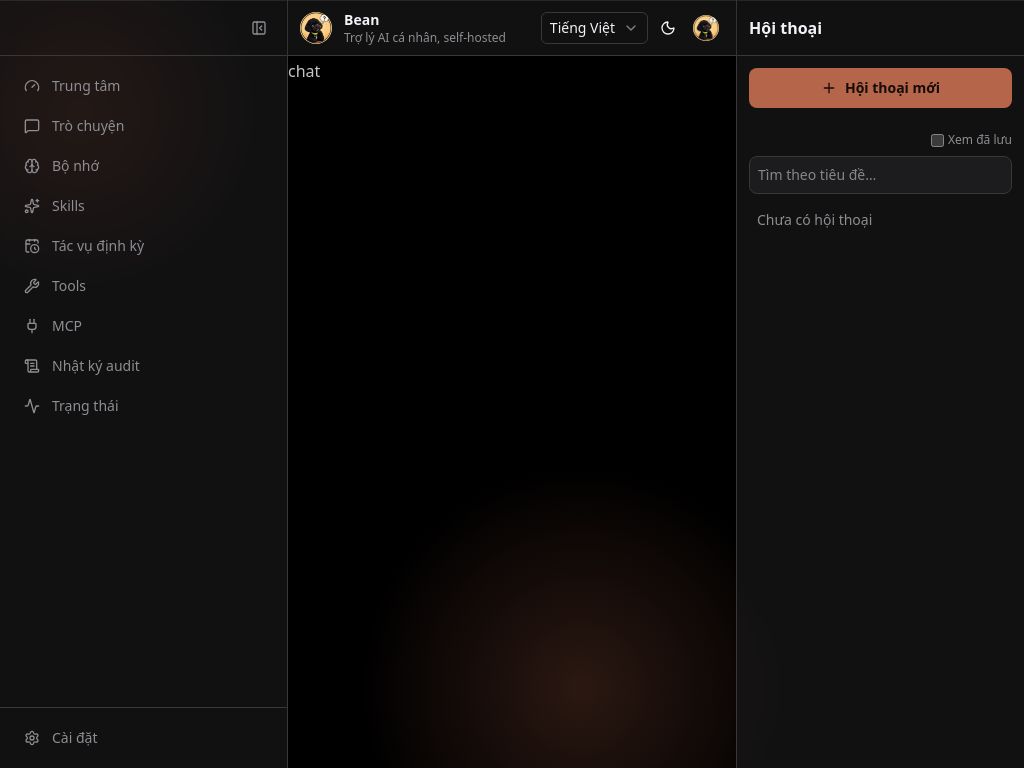
Test: ChatLayout sidebar › thu gọn sidebar › mặc định mở rộng, bấm nút thì thu gọn và nhớ lựa chọn
The width and height of the screenshot is (1024, 768).
Click the button named "Thu gọn thanh điều hướng" at x=259, y=28, box left=243, top=12, right=275, bottom=44
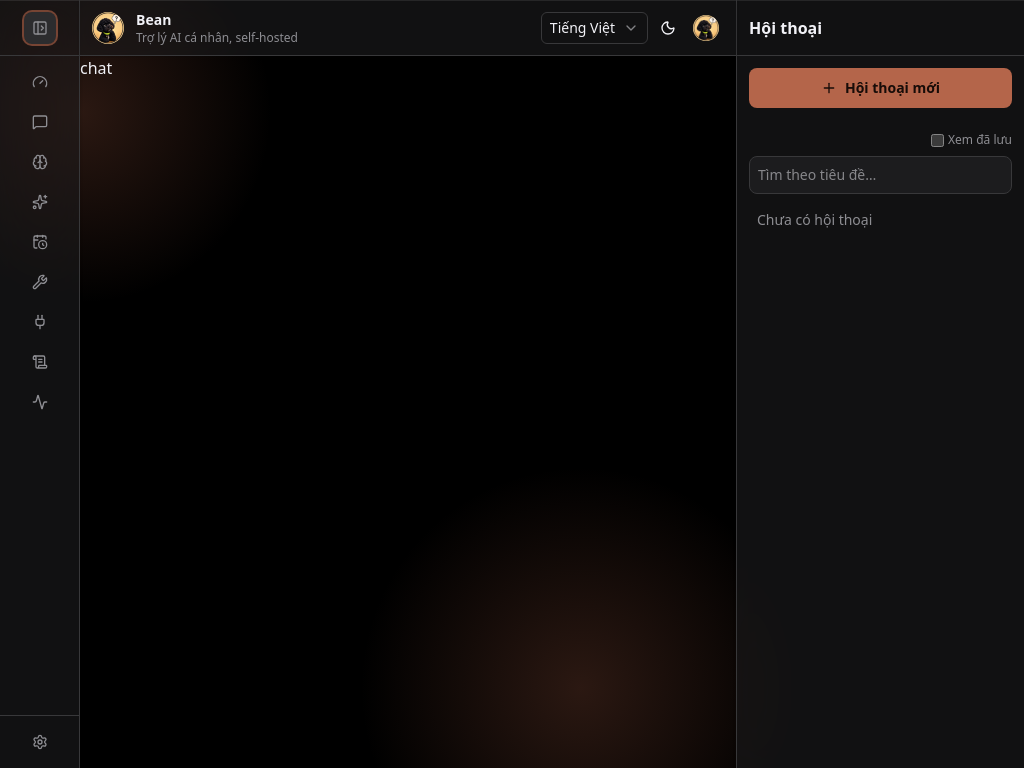
Check: the button named "Mở rộng thanh điều hướng" is collapsed
Click the button named "Mở rộng thanh điều hướng" at x=40, y=28, box left=24, top=12, right=56, bottom=44
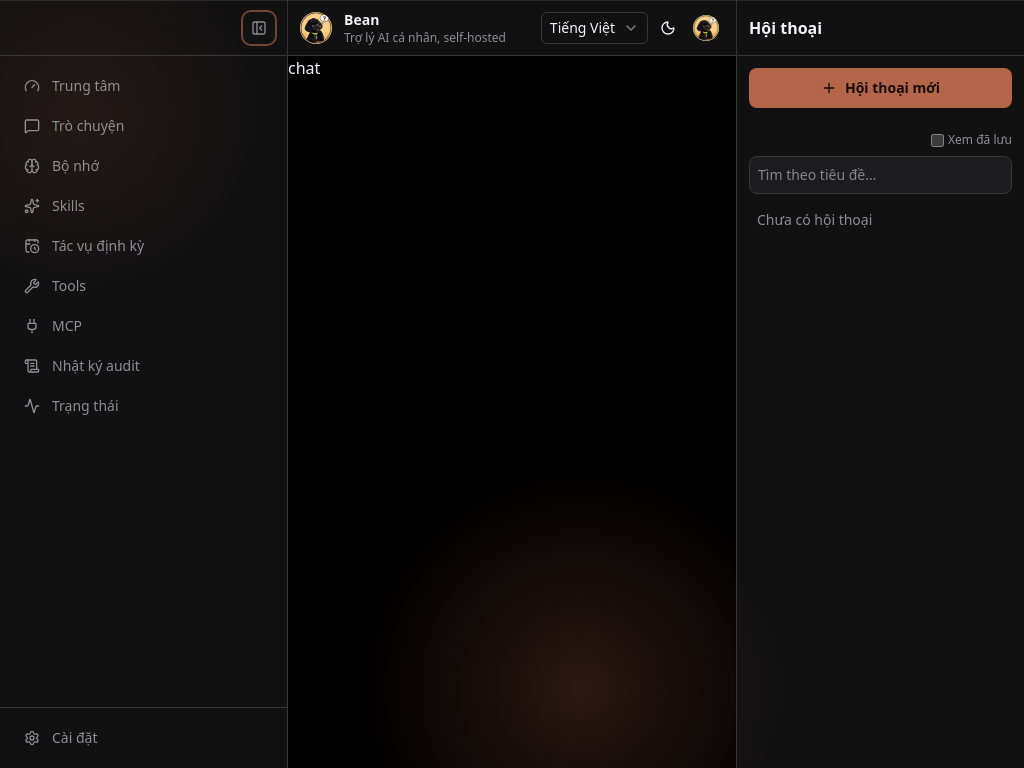
Check: the button named "Thu gọn thanh điều hướng" is expanded, box left=243, top=12, right=275, bottom=44
